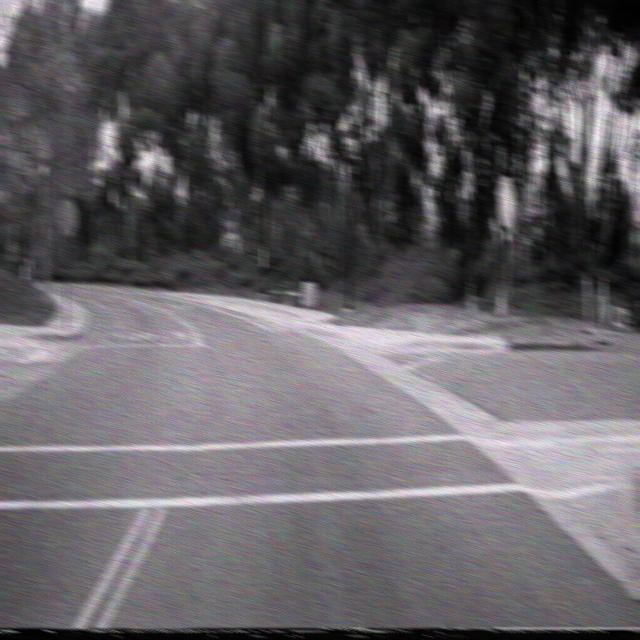stop_sign: (496, 174, 516, 226)
